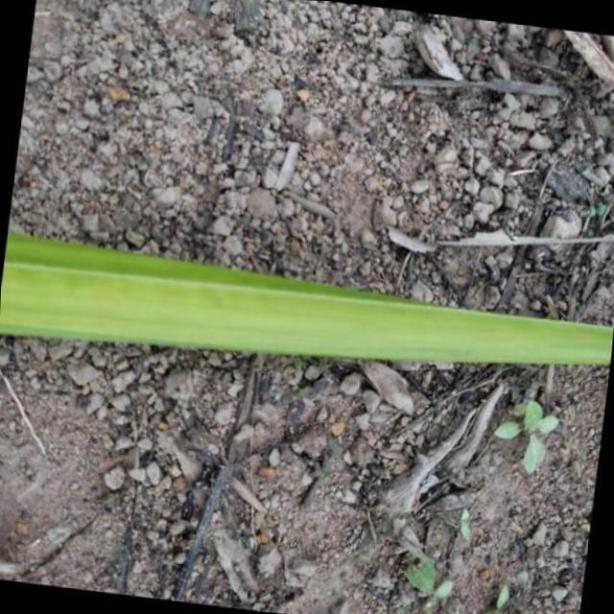nitrogen: (0, 229, 614, 369)
